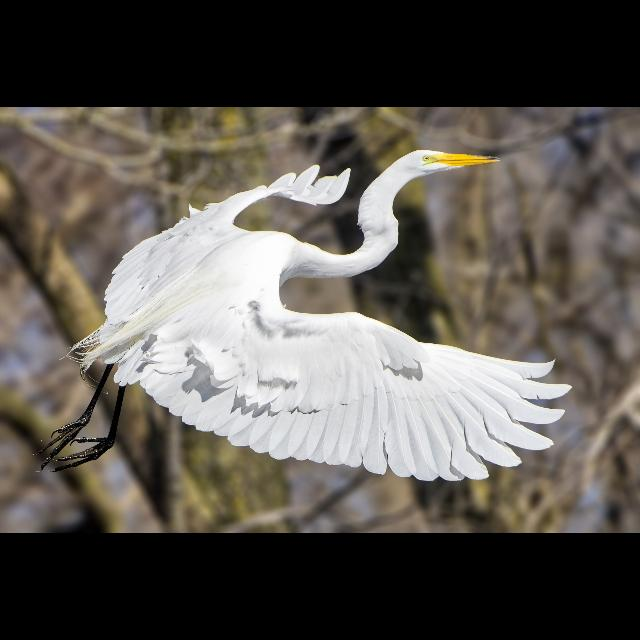egret: (39, 144, 578, 486)
